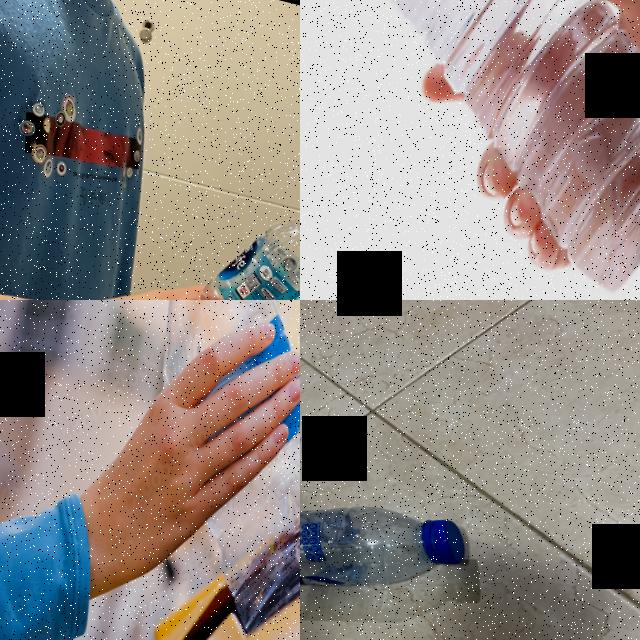bottle: (300, 0, 640, 300), (69, 300, 300, 640), (300, 443, 476, 640), (108, 151, 300, 300)
